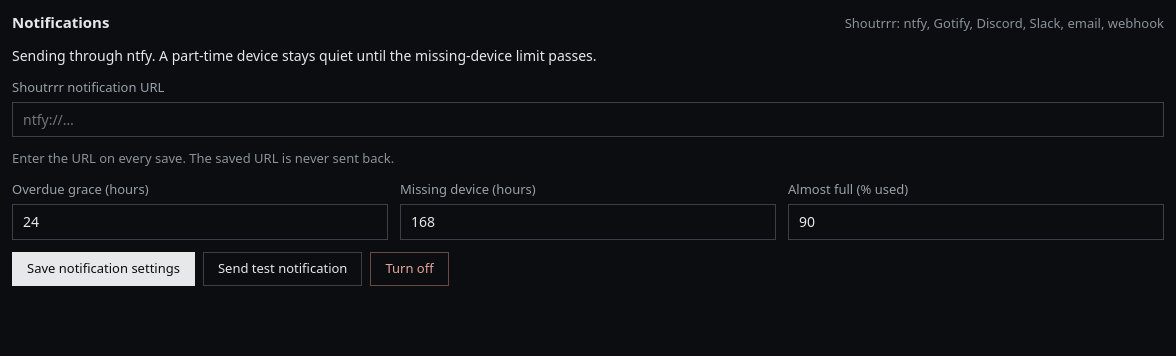
it: shows a queued test without claiming delivery
Click the button "Send test notification": (283, 269) [203,252,362,286]
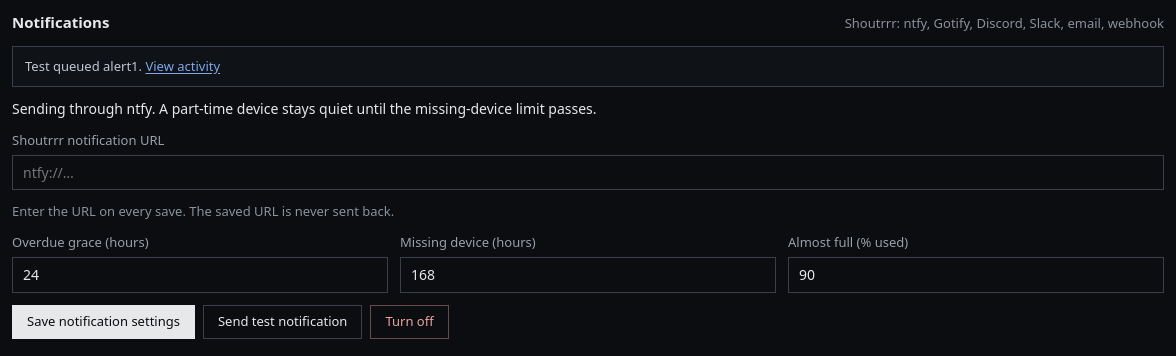
Result: the text "Test queued alert1. View activity" is shown at [12,46,1164,87]
